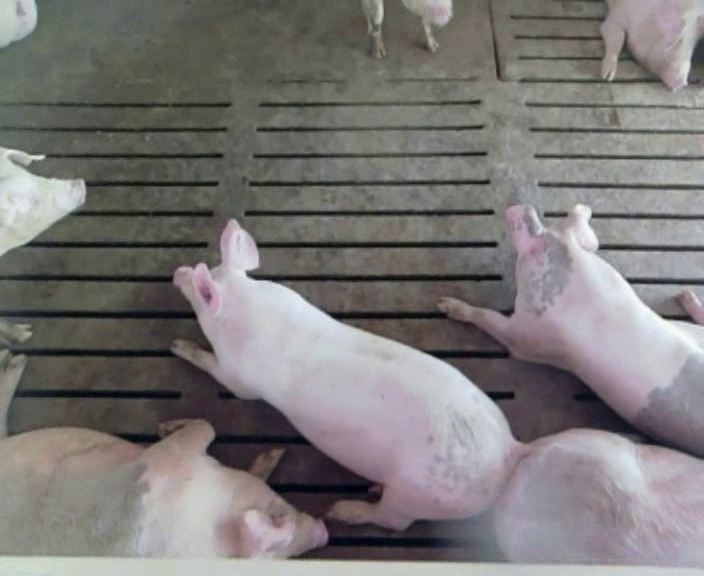pig: (172, 221, 525, 529), (438, 204, 703, 455), (496, 429, 703, 563), (601, 1, 703, 90)
